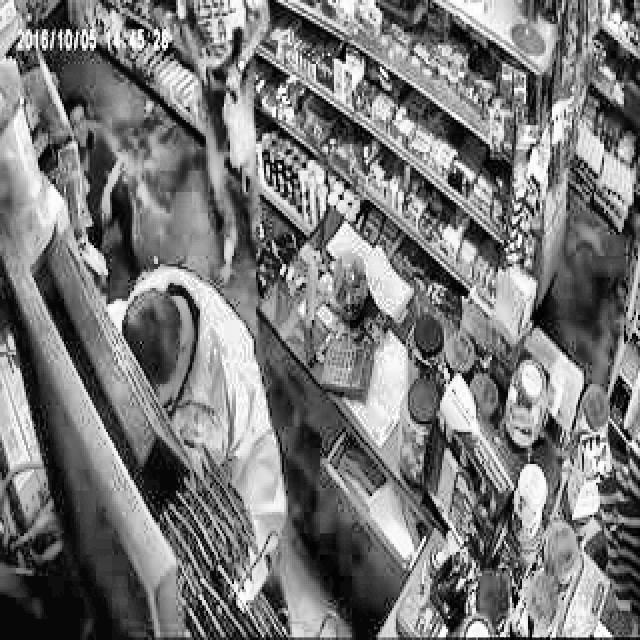robbery: (176, 0, 274, 289)
